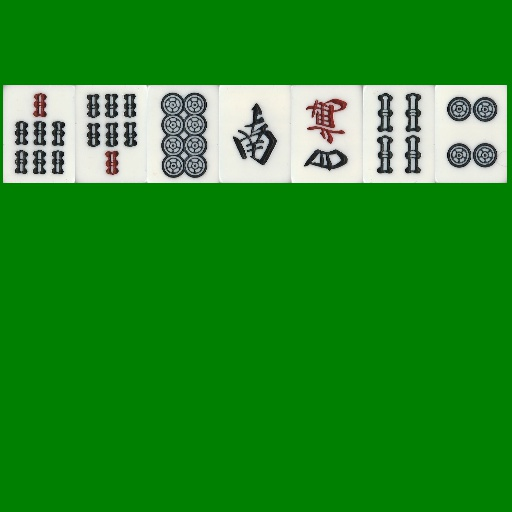4m: (291, 85, 363, 183)
4p: (435, 85, 507, 183)
4s: (363, 85, 435, 183)
7s: (3, 85, 75, 183), (75, 85, 147, 183)
8p: (147, 85, 219, 183)
south: (219, 85, 291, 183)
